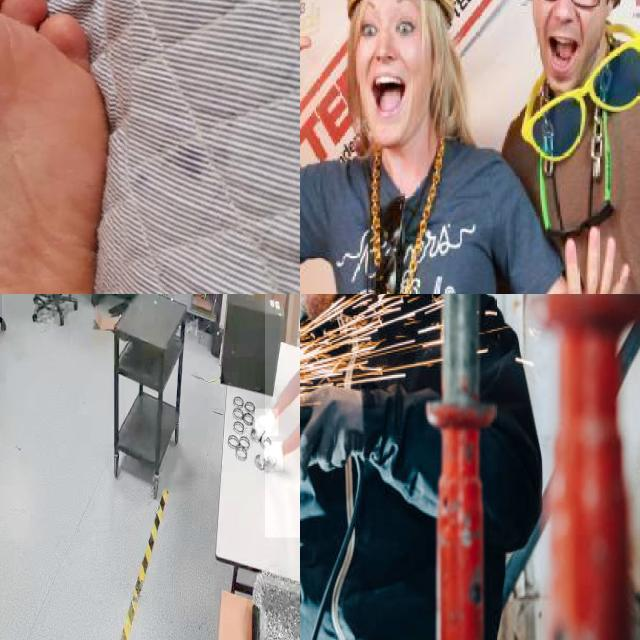Barefoots: (0, 0, 124, 294)
No_Glasses: (353, 10, 428, 44)
face_nomask: (343, 0, 432, 128), (524, 0, 605, 64)
glasses: (520, 17, 640, 161), (300, 386, 364, 481)
hand_glove: (255, 409, 279, 437), (264, 442, 284, 472)
hand_noglove: (521, 222, 636, 294), (300, 0, 339, 84)
person: (300, 0, 638, 294), (469, 0, 640, 294), (264, 294, 300, 538)
